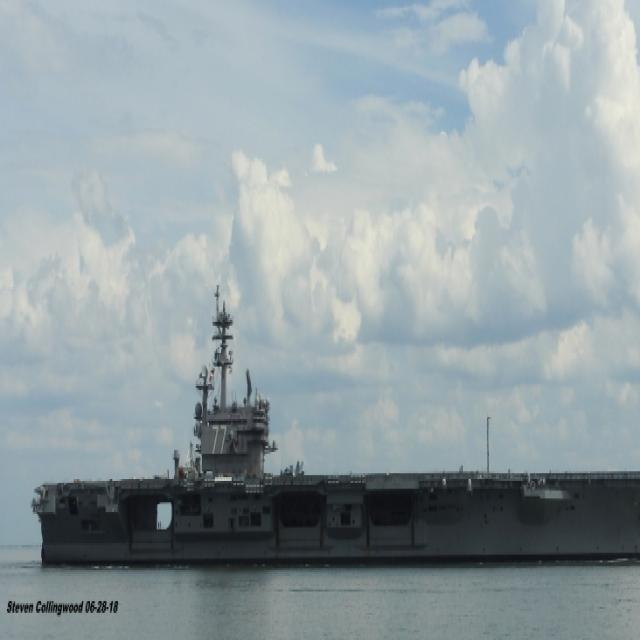Portanaves: (30, 274, 640, 580)
